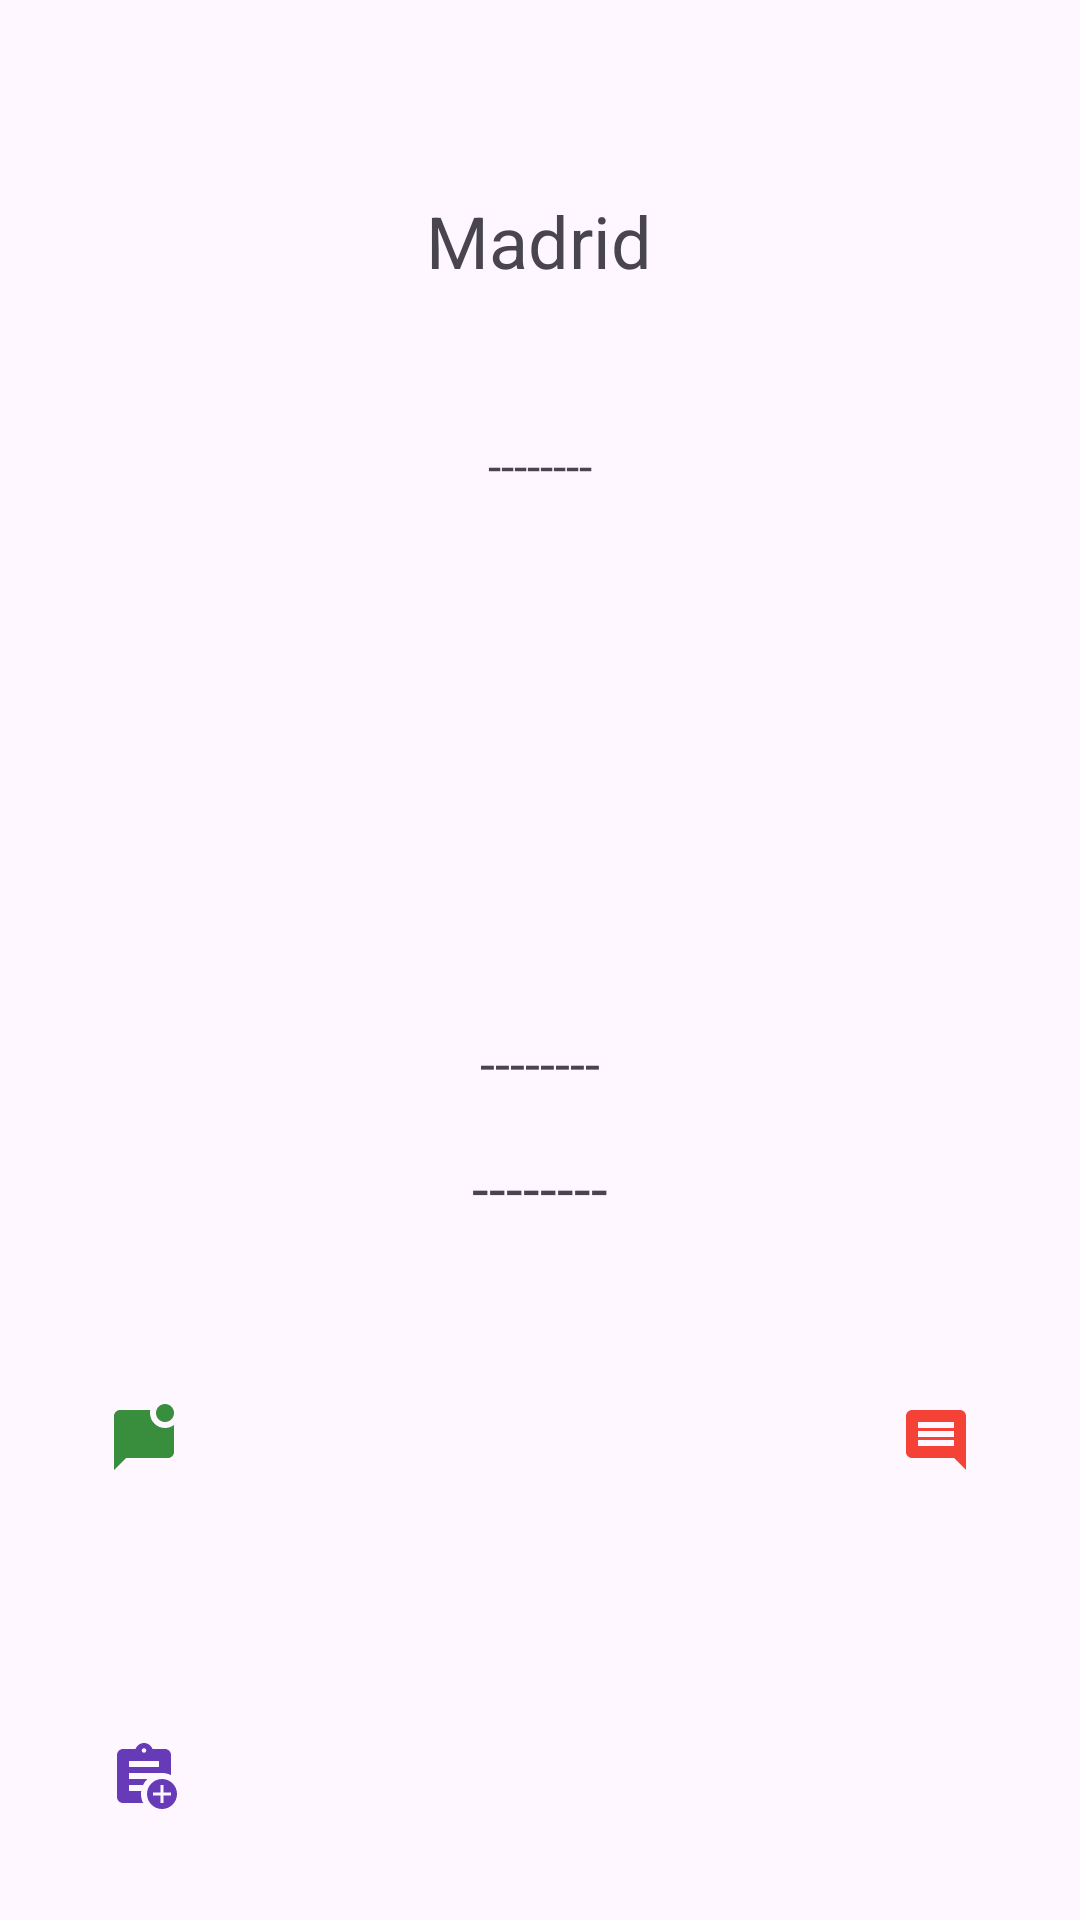

Locate icon controls on the screen. Image size 1080w x 1920h, boxes as (x1, y1, x2, y2).
assignment add: (117, 1743, 177, 1809)
comment: (906, 1410, 966, 1470)
mark chat unread: (114, 1404, 174, 1470)
